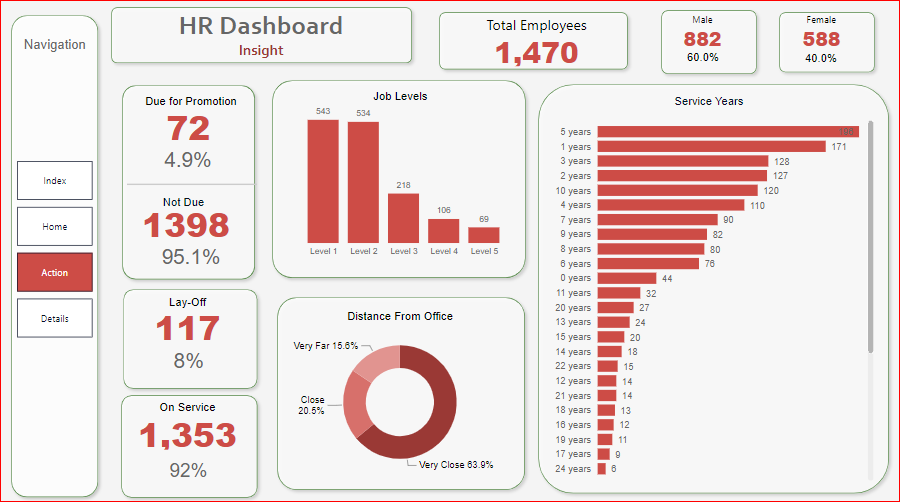

The dashboard page shown, as its layout file describes it:
{"tool":"powerbi","page":{"name":"Action","canvas":[1280,720],"ordinal":1},"visuals":[{"type":"shape","box":[10.2,18.9,141.1,701.1],"z":0},{"type":"card","title":"Female","fields":{"Values":["Measures (2).Female"]},"box":[1104.3,24.4,123.1,56.7],"z":0,"group":"g7"},{"type":"columnChart","fields":{"Category":["HR Analytics Data.Job Levels"],"Y":["Measures (2).Total Emp"]},"box":[410.4,143.1,328.6,234.6],"z":0,"group":"g8"},{"type":"card","title":"Lay-Off","fields":{"Values":["Measures (2).Lay-off"]},"box":[182.8,425.2,171.5,69.4],"z":0,"group":"g4"},{"type":"card","title":"On Service","fields":{"Values":["Measures (2).On Service"]},"box":[181.4,574,174.3,73.7],"z":0,"group":"g2"},{"type":"shape","box":[151.3,7.3,443.6,97.5],"z":1000,"group":"g5"},{"type":"card","title":"Male","fields":{"Values":["Measures (2).% Female"]},"box":[1089.1,66.9,153.4,46.8],"z":1000,"group":"g7"},{"type":"shape","box":[167.9,117.6,205.5,293.4],"z":1000},{"type":"textbox","box":[521.8,128.2,94.5,30.5],"z":1000,"group":"g8"},{"type":"card","title":"Male","fields":{"Values":["Measures (2).% Lay-off"]},"box":[228.2,493.2,83.6,46.8],"z":1000,"group":"g4"},{"type":"shape","box":[165.8,557,211.2,163],"z":1000,"group":"g6"},{"type":"card","title":"Male","fields":{"Values":["Measures (2).% On Service"]},"box":[226.8,649.1,86.5,46.8],"z":1000,"group":"g2"},{"type":"shape","box":[616.7,14.5,285.1,98.9],"z":2000,"group":"g3"},{"type":"shape","box":[168.6,406.8,208.3,158.7],"z":2000,"group":"g6"},{"type":"shape","box":[386.9,417.5,369.5,290.9],"z":2000},{"type":"group","id":"g1","title":"Group 3","box":[922.2,11.6,328.7,107.6],"z":3000},{"type":"shape","box":[930.6,11.6,153.4,107.7],"z":3000,"group":"g1"},{"type":"shape","box":[1097.5,14.4,153.4,103.5],"z":4000,"group":"g1"},{"type":"shape","box":[756.9,116.4,514.9,597.8],"z":4000},{"type":"group","id":"g2","title":"Group 1","box":[181.4,574,174.3,121.9],"z":4000,"group":"g6"},{"type":"group","id":"g3","title":"Group 4","box":[616.7,14.5,285.1,98.9],"z":5000},{"type":"group","id":"g4","title":"Group 1","box":[182.8,425.2,171.5,114.8],"z":5000,"group":"g6"},{"type":"shape","box":[379.9,110.5,376.7,298.2],"z":6000},{"type":"group","id":"g5","title":"Group 5","box":[151.3,7.3,443.6,97.5],"z":7000},{"type":"donutChart","title":"Distance From Office","fields":{"Category":["HR Analytics Data.Distance Status"],"Y":["Measures (2).Total Emp"]},"box":[401.5,445.1,337.5,244.4],"z":8000},{"type":"textbox","box":[191.5,12.9,363.3,91.8],"z":9000,"group":"g5"},{"type":"card","fields":{"Values":["Measures (2).Due for promotion"]},"box":[197,151.1,144.6,66.6],"z":9000},{"type":"card","title":"Total Employees","fields":{"Values":["Measures (2).Total Emp"]},"box":[638.9,26.3,248.4,78.5],"z":10000,"group":"g3"},{"type":"group","id":"g6","title":"Group 7","box":[165.8,406.8,211.2,313.2],"z":10000},{"type":"textbox","box":[165.8,134.1,215.4,32.6],"z":11000},{"type":"card","fields":{"Values":["Measures (2).% Due for promotion"]},"box":[185.7,204.9,167.2,51],"z":12000},{"type":"card","title":"Male","fields":{"Values":["Measures (2).Male"]},"box":[935.7,24.4,123.1,56.7],"z":13000,"group":"g1"},{"type":"card","fields":{"Values":["Measures (2).% Not Due"]},"box":[189.9,342.4,167.2,51],"z":13000},{"type":"card","title":"Male","fields":{"Values":["Measures (2).% Male"]},"box":[922.2,65.5,153.4,46.8],"z":14000,"group":"g1"},{"type":"card","fields":{"Values":["Measures (2).Not Due"]},"box":[188.5,288.5,155.9,66.6],"z":14000},{"type":"group","id":"g7","title":"Group 1","box":[1089.1,24.4,153.4,89.3],"z":15000,"group":"g1"},{"type":"textbox","box":[188.5,277.2,148.8,38.3],"z":15000},{"type":"shape","box":[182.8,257.4,184.3,18.4],"z":16000},{"type":"barChart","fields":{"Category":["HR Analytics Data.Service years"],"Y":["Measures (2).Total Emp"]},"box":[781.4,162.9,465.5,529.5],"z":17000},{"type":"textbox","box":[902.1,135.3,212.4,30.5],"z":18000},{"type":"group","id":"g8","title":"Group 2","box":[410.4,128.2,328.6,249.6],"z":19000},{"type":"pageNavigator","box":[27.6,234.2,107.6,251.6],"z":20000},{"type":"textbox","box":[7.3,52.4,146.9,33.5],"z":21000}]}

Visuals, with their boxes in screenshot pixels (x1, y1, x2, y2), scaled from the page's 1280x720 canvas onto the 900x502 screenshot:
shape: {"left": 7, "top": 13, "right": 106, "bottom": 501}
"Female" card: {"left": 776, "top": 17, "right": 863, "bottom": 57}
columnChart - HR Analytics Data.Job Levels x Measures (2).Total Emp: {"left": 289, "top": 100, "right": 520, "bottom": 263}
"Lay-Off" card: {"left": 129, "top": 296, "right": 249, "bottom": 345}
"On Service" card: {"left": 128, "top": 400, "right": 250, "bottom": 452}
shape: {"left": 106, "top": 5, "right": 418, "bottom": 73}
"Male" card: {"left": 766, "top": 47, "right": 874, "bottom": 79}
shape: {"left": 118, "top": 82, "right": 263, "bottom": 287}
textbox: {"left": 367, "top": 89, "right": 433, "bottom": 111}
"Male" card: {"left": 160, "top": 344, "right": 219, "bottom": 376}
shape: {"left": 117, "top": 388, "right": 265, "bottom": 501}
"Male" card: {"left": 159, "top": 453, "right": 220, "bottom": 485}
shape: {"left": 434, "top": 10, "right": 634, "bottom": 79}
shape: {"left": 119, "top": 284, "right": 265, "bottom": 394}
shape: {"left": 272, "top": 291, "right": 532, "bottom": 494}
"Group 3" group: {"left": 648, "top": 8, "right": 880, "bottom": 83}
shape: {"left": 654, "top": 8, "right": 762, "bottom": 83}
shape: {"left": 772, "top": 10, "right": 880, "bottom": 82}
shape: {"left": 532, "top": 81, "right": 894, "bottom": 498}
"Group 1" group: {"left": 128, "top": 400, "right": 250, "bottom": 485}
"Group 4" group: {"left": 434, "top": 10, "right": 634, "bottom": 79}
"Group 1" group: {"left": 129, "top": 296, "right": 249, "bottom": 376}
shape: {"left": 267, "top": 77, "right": 532, "bottom": 285}
"Group 5" group: {"left": 106, "top": 5, "right": 418, "bottom": 73}
"Distance From Office" donutChart: {"left": 282, "top": 310, "right": 520, "bottom": 481}
textbox: {"left": 135, "top": 9, "right": 390, "bottom": 73}
card - Measures (2).Due for promotion: {"left": 139, "top": 105, "right": 240, "bottom": 152}
"Total Employees" card: {"left": 449, "top": 18, "right": 624, "bottom": 73}
"Group 7" group: {"left": 117, "top": 284, "right": 265, "bottom": 501}
textbox: {"left": 117, "top": 93, "right": 268, "bottom": 116}
card - Measures (2).% Due for promotion: {"left": 131, "top": 143, "right": 248, "bottom": 178}
"Male" card: {"left": 658, "top": 17, "right": 744, "bottom": 57}
card - Measures (2).% Not Due: {"left": 134, "top": 239, "right": 251, "bottom": 274}
"Male" card: {"left": 648, "top": 46, "right": 756, "bottom": 78}
card - Measures (2).Not Due: {"left": 133, "top": 201, "right": 242, "bottom": 248}
"Group 1" group: {"left": 766, "top": 17, "right": 874, "bottom": 79}
textbox: {"left": 133, "top": 193, "right": 237, "bottom": 220}
shape: {"left": 129, "top": 179, "right": 258, "bottom": 192}
barChart - HR Analytics Data.Service years x Measures (2).Total Emp: {"left": 549, "top": 114, "right": 877, "bottom": 483}
textbox: {"left": 634, "top": 94, "right": 784, "bottom": 116}
"Group 2" group: {"left": 289, "top": 89, "right": 520, "bottom": 263}
pageNavigator: {"left": 19, "top": 163, "right": 95, "bottom": 339}
textbox: {"left": 5, "top": 37, "right": 108, "bottom": 60}
